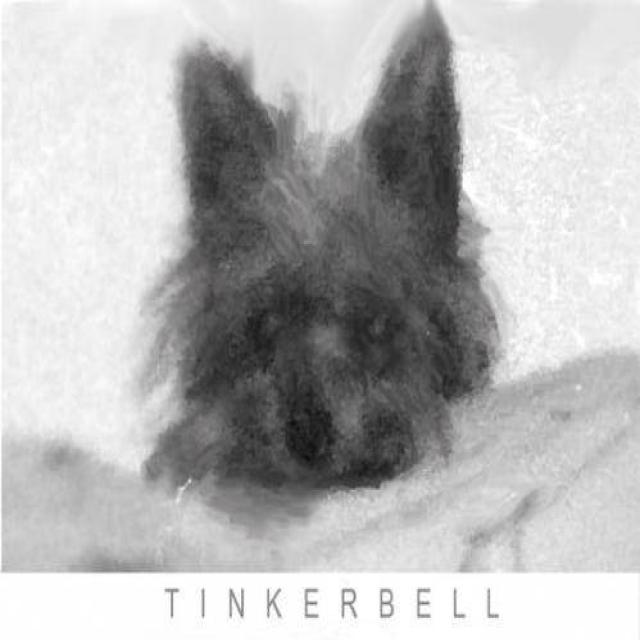dog: (133, 0, 501, 498)
